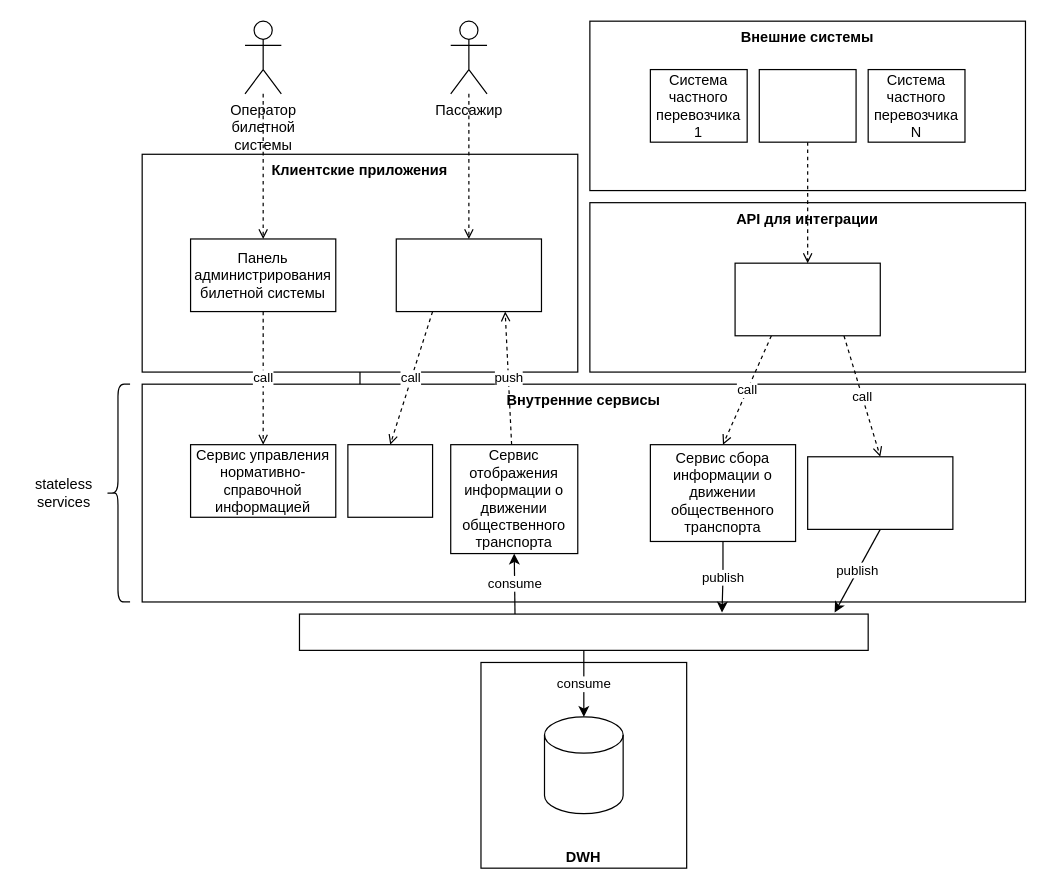
Image size: 1047x889. Some labels were removed from this diagram. Here are the shapes that lost their labels. From the top down, the centre of each, then its label:
At (807,105): "Система частного перевозчика 2".
At (468,275): "Мобильное приложение / веб-сайт".
At (807,299): "REST API интеграции с системами перевозчиков".
At (390,480): "Сервис продажи билетов".
At (879,492): "Сервис сбора информации о совершенных проходах".
At (583,631): "RabbitMQ".
At (583,765): "ClickHouse".
